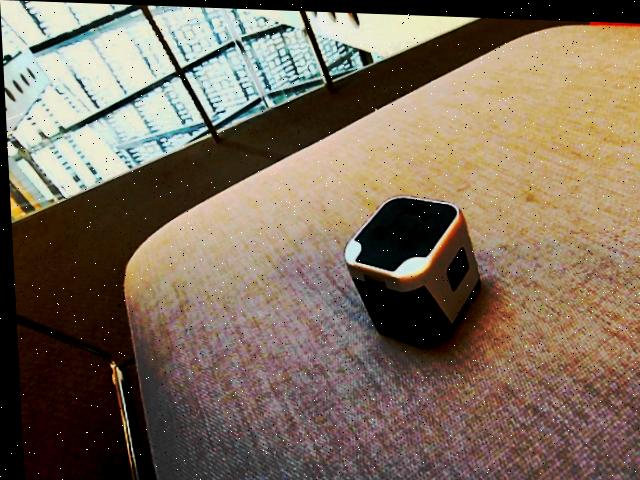adapter: (338, 189, 481, 346)
